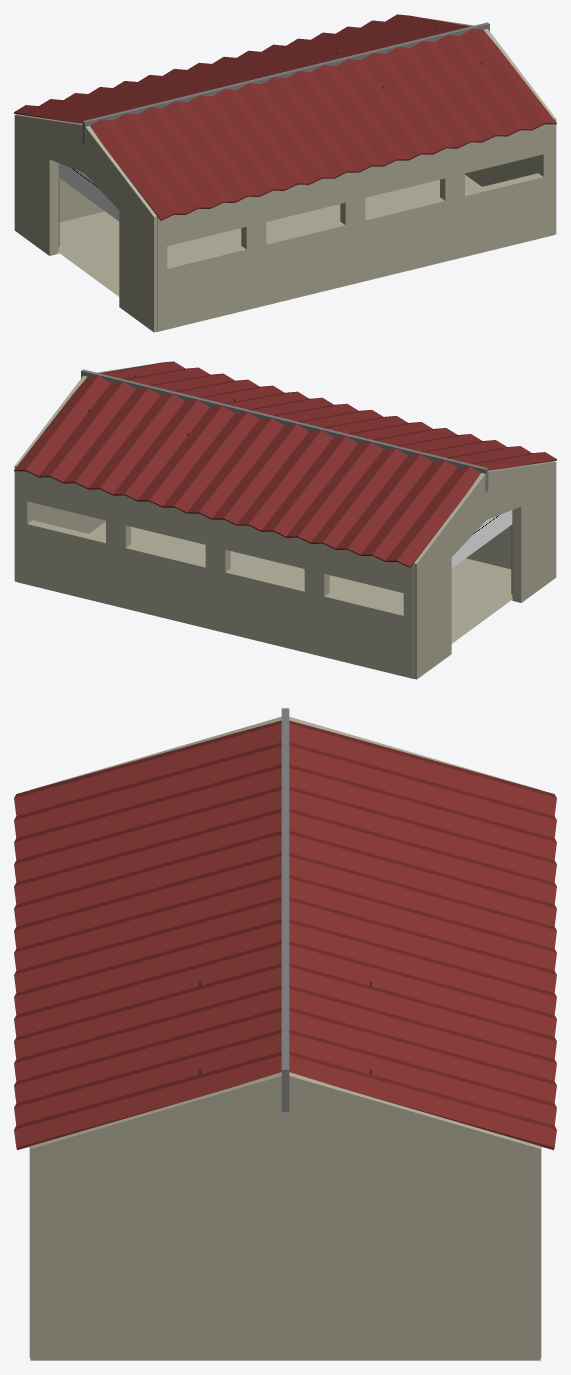
Rendered from hangar.fbx.
The picture shows the model from 3 angles, top to bottom: view 1: azimuth 30°, elevation 25°; view 2: azimuth 150°, elevation 25°; view 3: azimuth 270°, elevation 25°; orthographic projection. The views are drawn at different scales.
Visible parts, largest first — view 1: Hangar; view 2: Hangar; view 3: Hangar.
Boxes of the visible parts, x1,y1,x2,y2 form: Hangar: [14, 14, 556, 332]; Hangar: [14, 361, 556, 679]; Hangar: [14, 708, 556, 1360].
Size of the model in its own units: 30071 by 11416 by 19080.
Materials: 18 (1 with a texture image).
